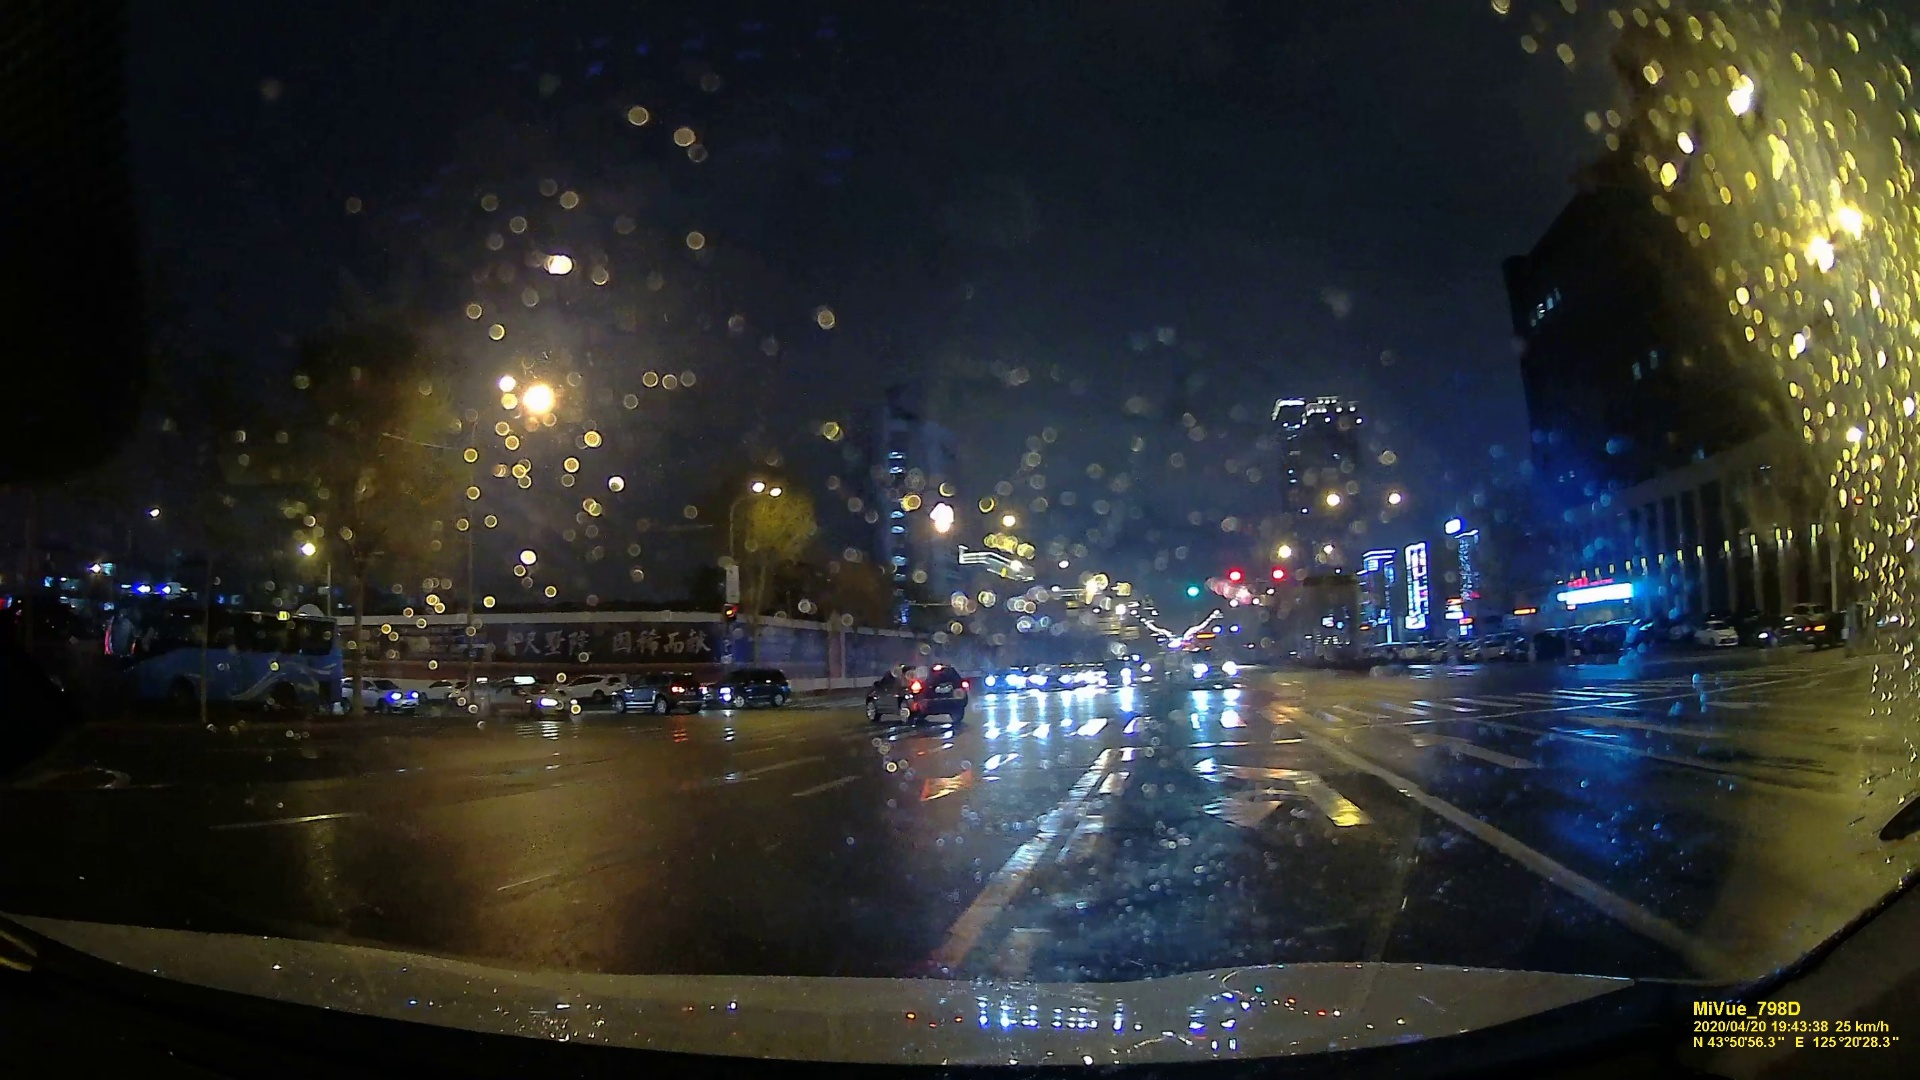traffic_sign: (1269, 566, 1283, 592), (1228, 568, 1242, 593), (1187, 571, 1199, 599), (723, 597, 735, 618)
vehicle: (860, 659, 975, 727), (702, 666, 789, 709), (620, 673, 702, 716), (487, 676, 568, 715), (342, 676, 419, 713), (1174, 650, 1236, 684), (984, 665, 1031, 688)
